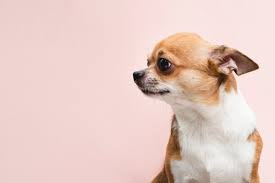Chihuahua: (124, 14, 274, 183)
